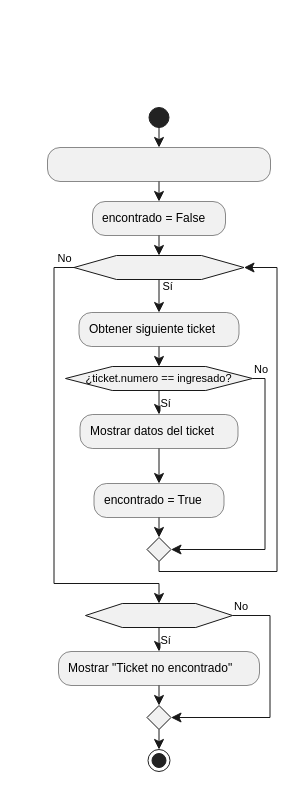
Some shapes in this 304 by 789 pixel diagram are drawn without their labels. Each missing label, with the centre of its shape:
"Ingresar número de ticket a buscar" belongs at point 158,164.
"¿encontrado == False?" belongs at point 158,615.
"¿Quedan tickets en la lista?" belongs at point 158,267.
